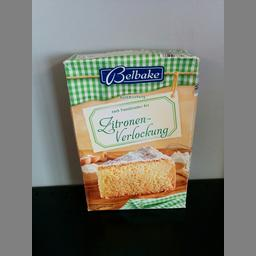cake: (61, 50, 200, 212)
